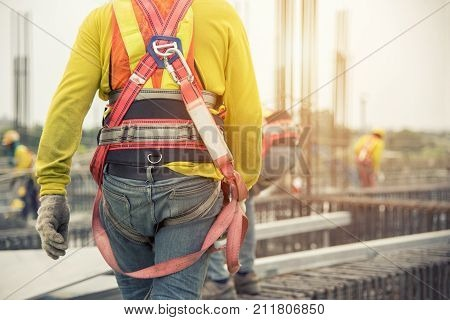Person: (75, 0, 255, 304)
Safety_Harness: (89, 0, 247, 299)
